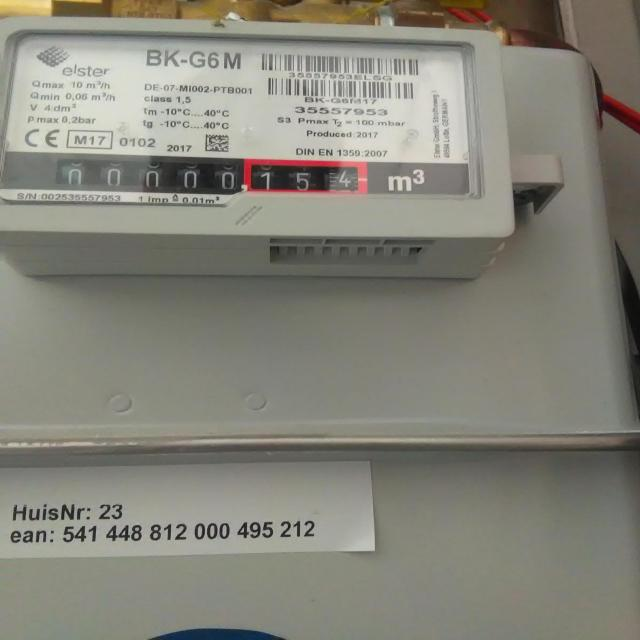gaz_meter: (3, 23, 487, 207)
indication: (56, 155, 369, 196)
